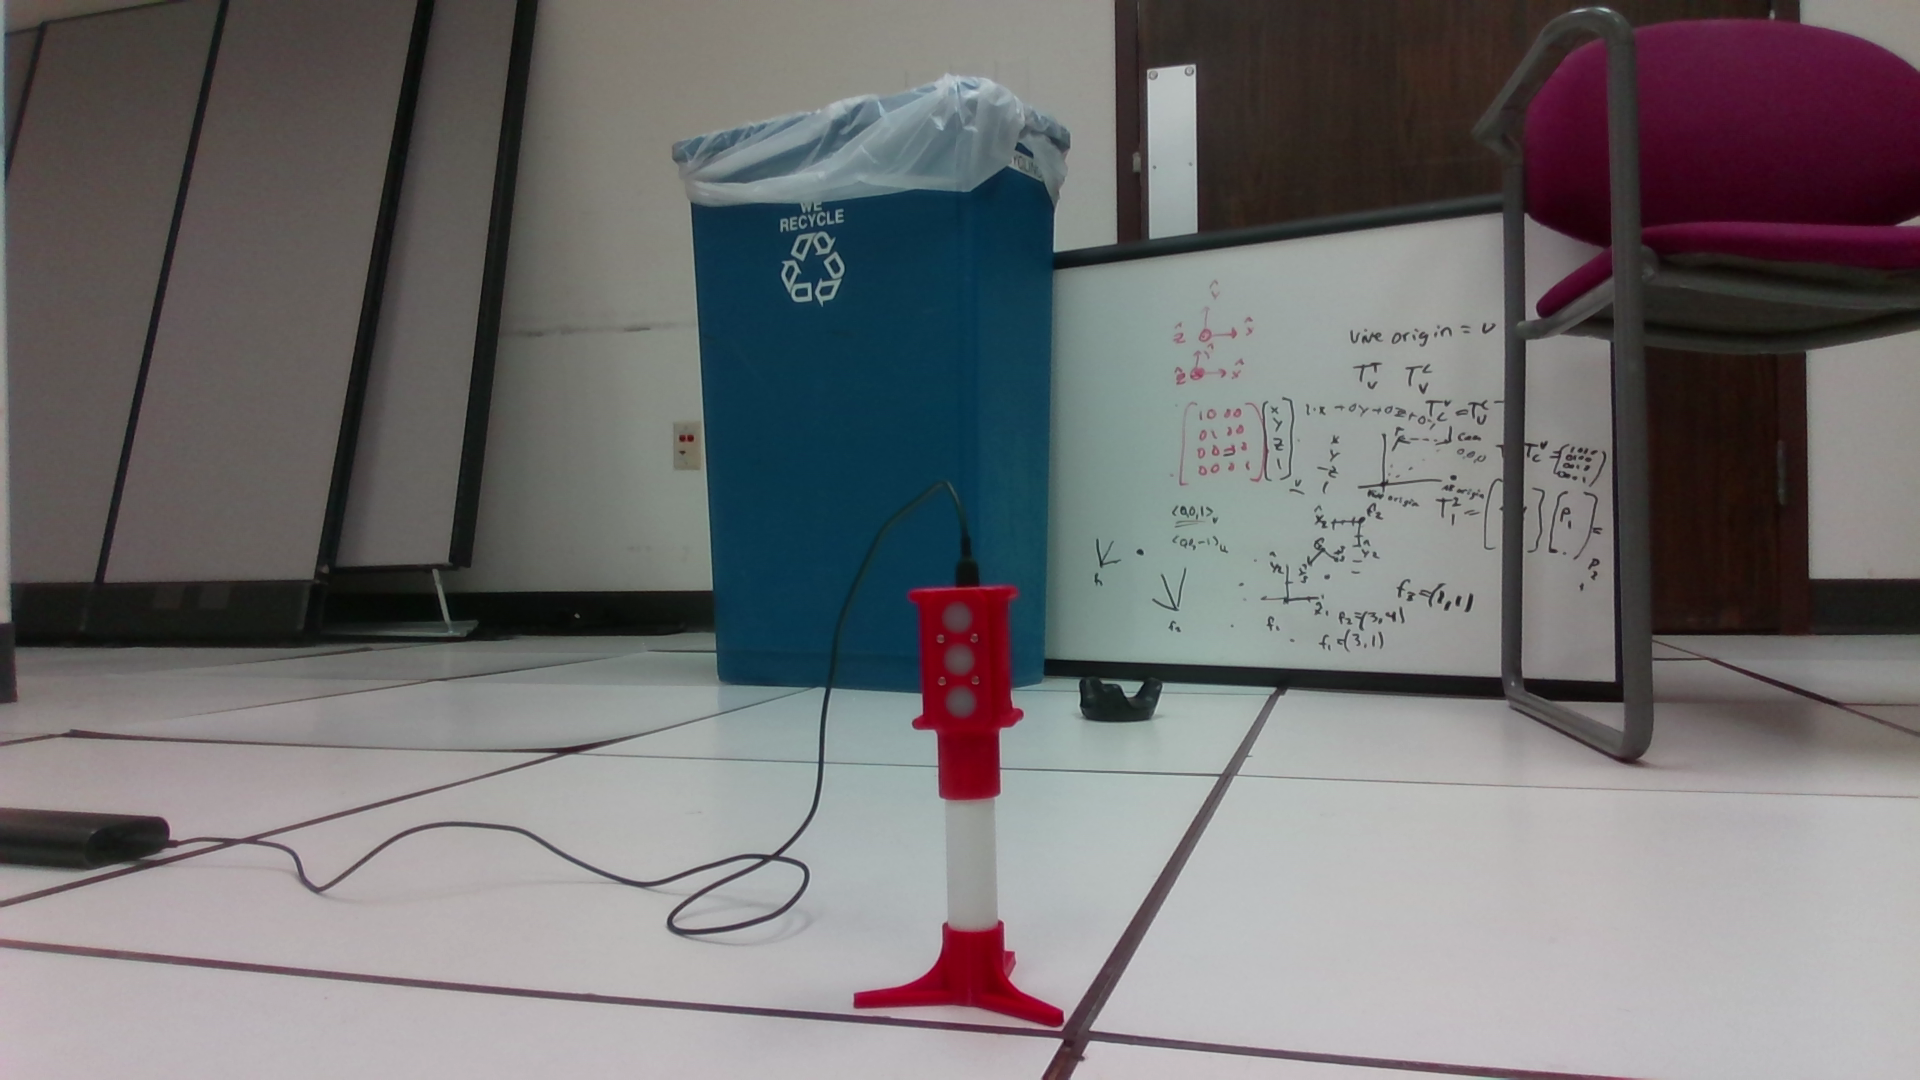stoplight: (913, 585, 1025, 810)
